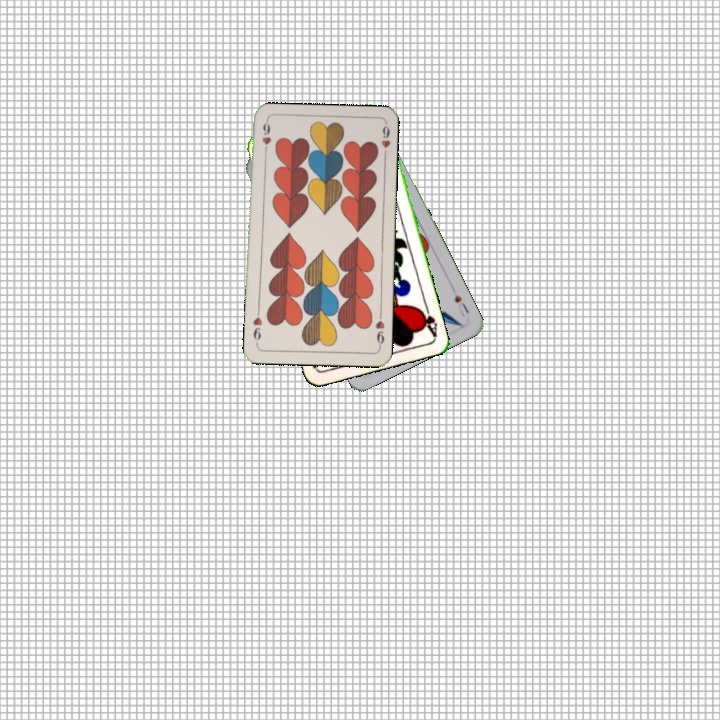H9: (371, 310, 387, 350), (258, 118, 272, 159)
HA: (415, 299, 440, 339)
HU: (450, 290, 472, 319)
